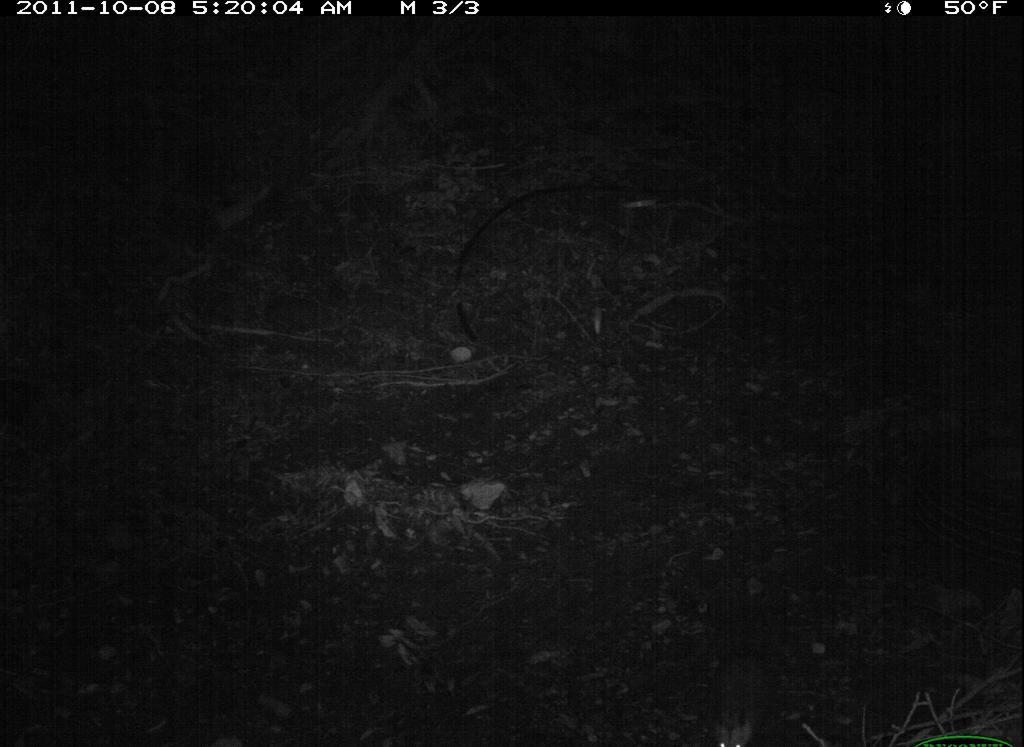opossum: (699, 637, 775, 747)
